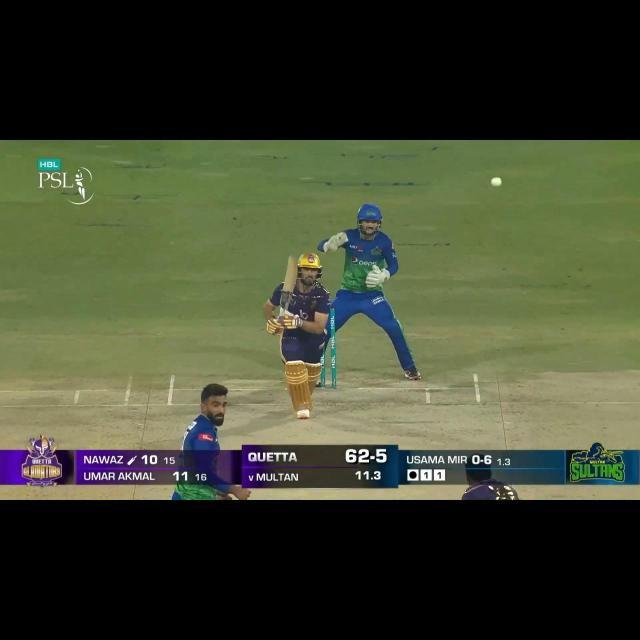bat: (281, 256, 300, 294)
toe: (284, 254, 300, 265)
